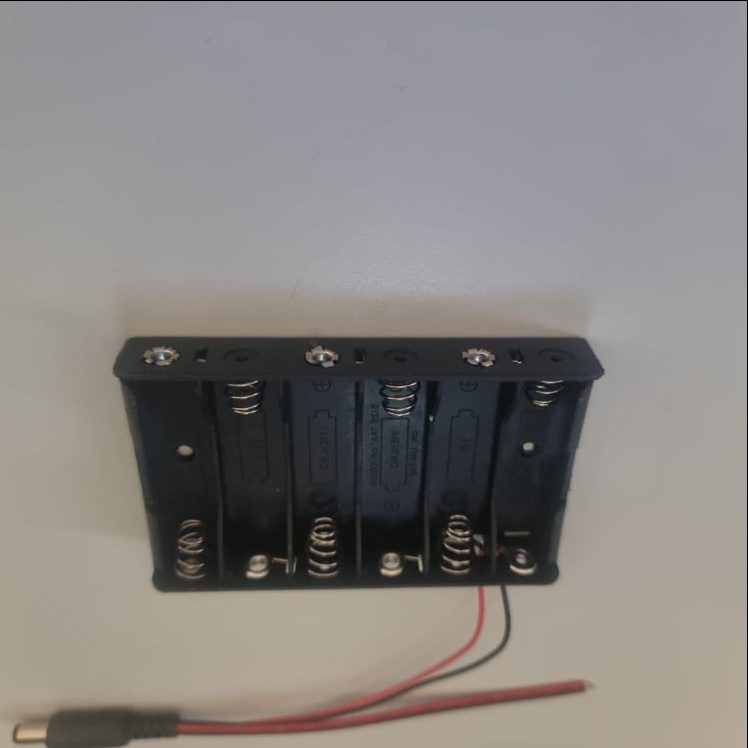BATTERY BOX: (112, 334, 608, 591)
